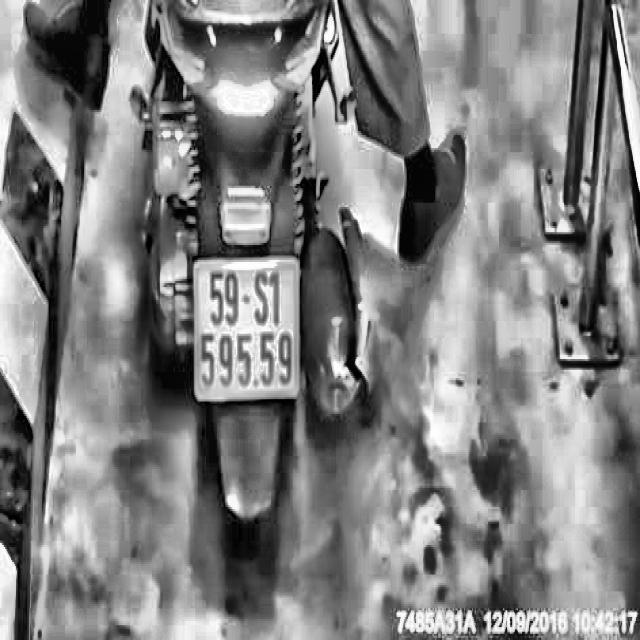plate: (188, 252, 304, 408)
